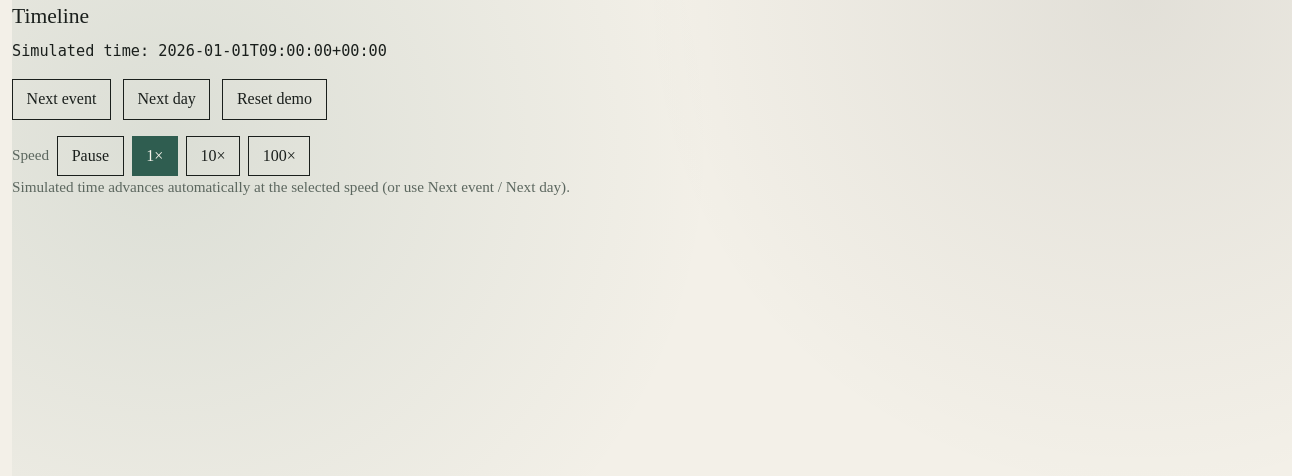
Test: TimelineControls › advancing a day updates displayed simulated time
What coordinates should you click on to do the following:
click the button "Next day"
I would click on:
 (167, 99)
Its box is [123,79,210,120].
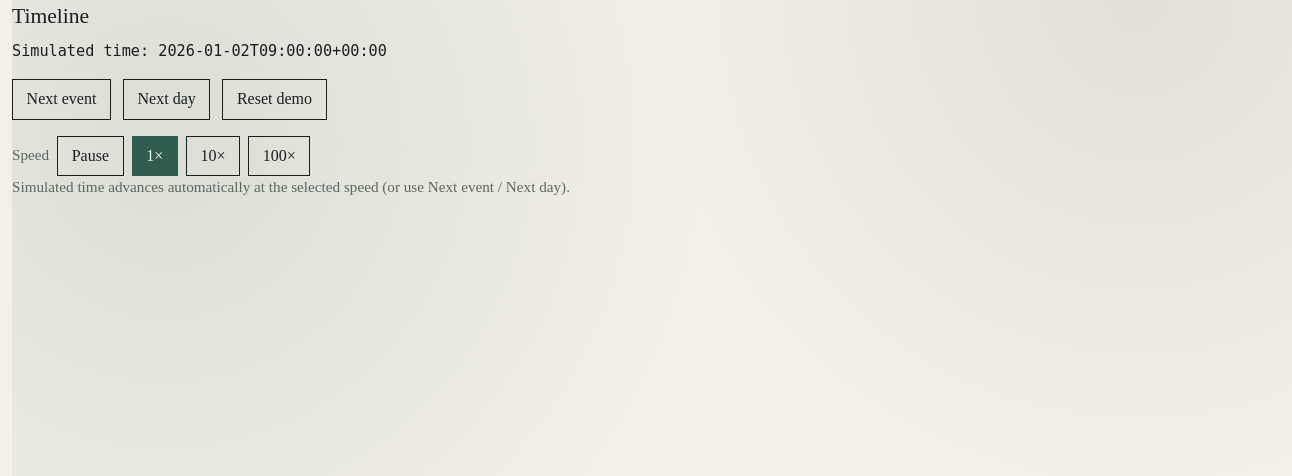
Expected: the element with test id "simulated-time" shows "2026-01-02T09:00:00+00:00", [158,42,387,60]
